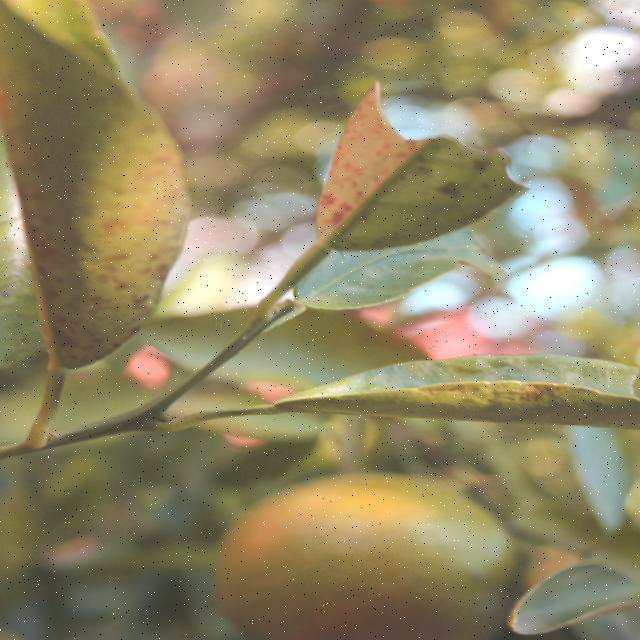melanose: (0, 36, 191, 389), (297, 74, 523, 266), (261, 346, 640, 432)
